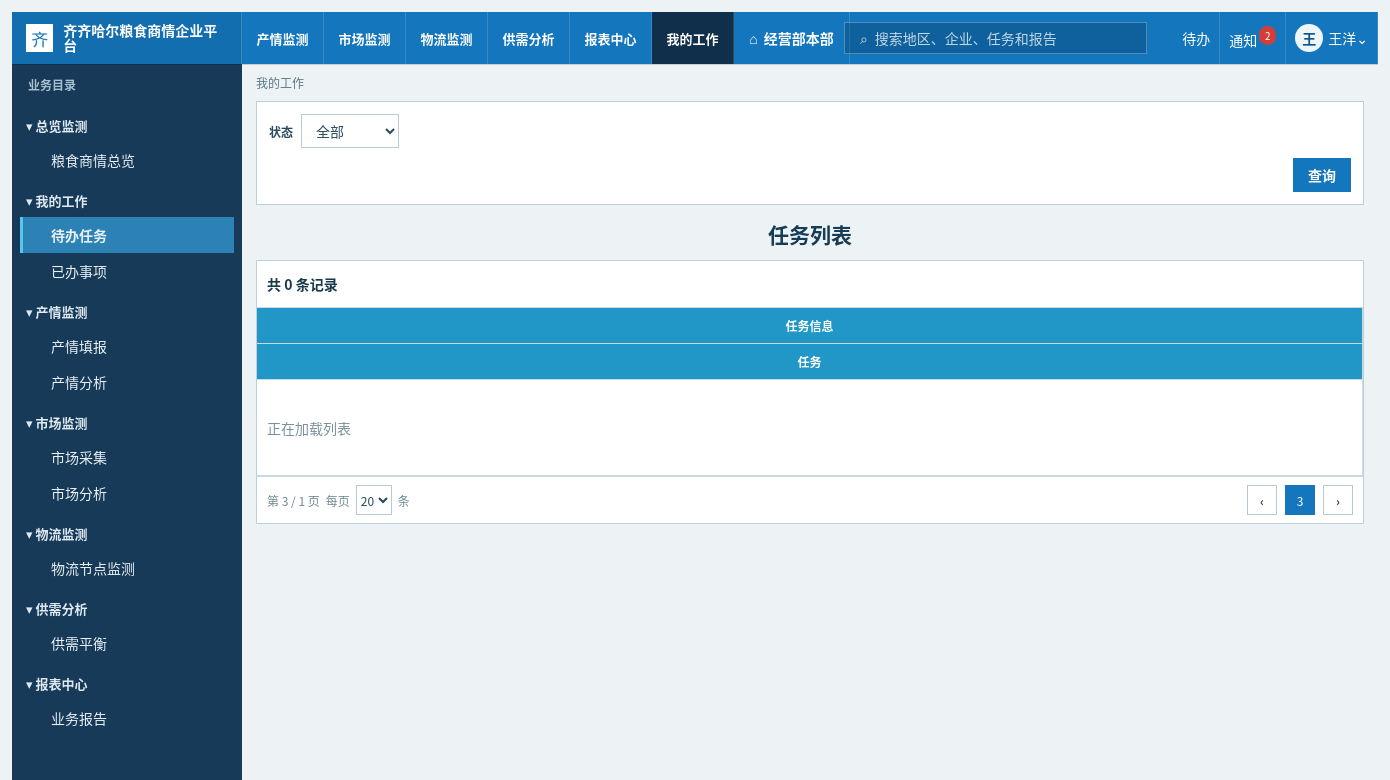
Test case: App work management composition › discards a deferred pending response after switching to completed work
Click the button "已办事项".
click(127, 271)  # box [20,253,234,289]
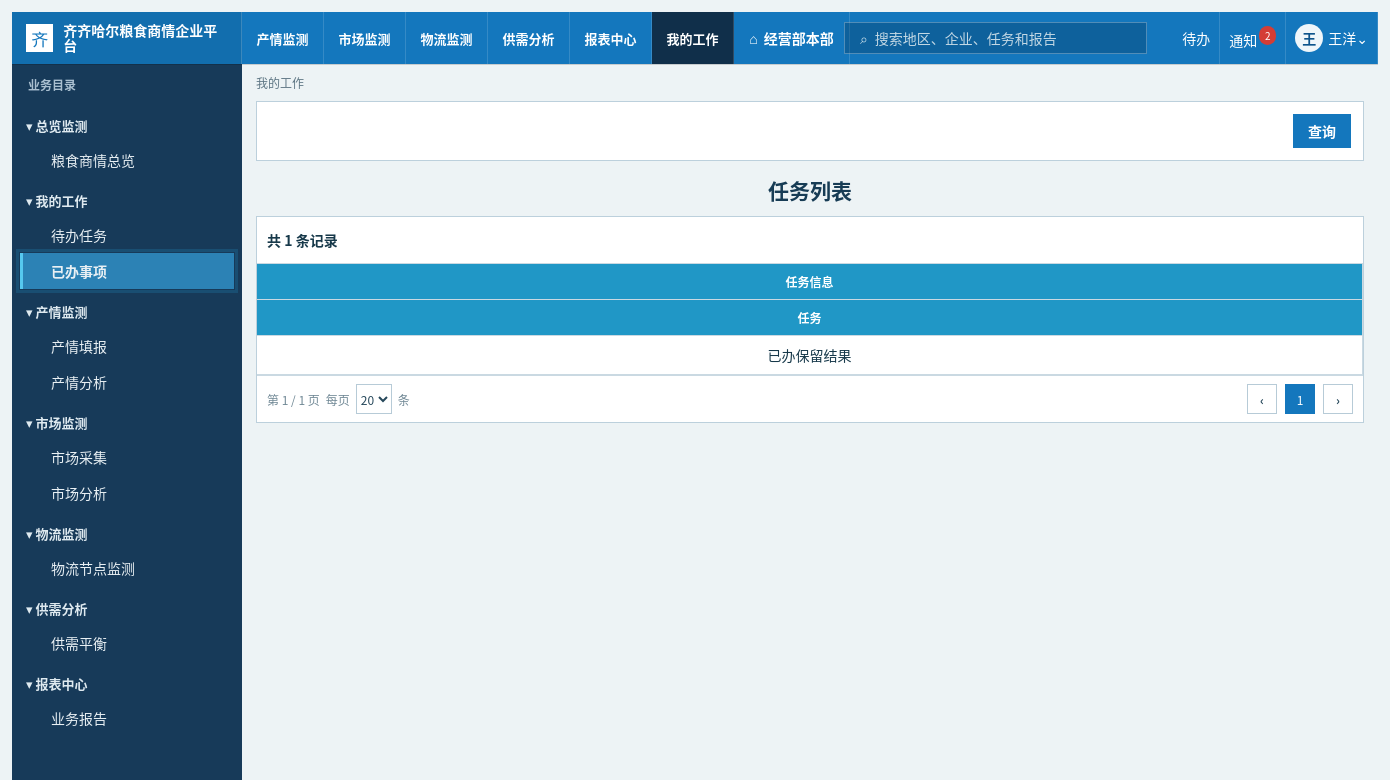
Now the text "已办保留结果" is shown, box [257,336,1362,374]
Now the text "正在加载列表" is gone
